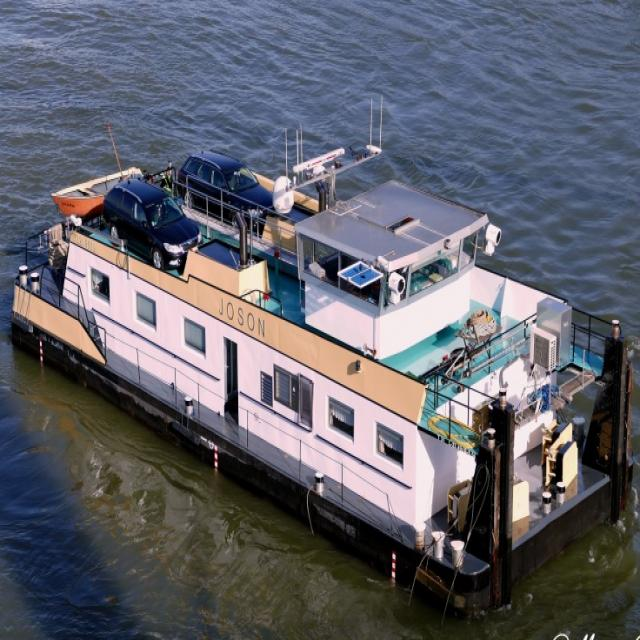tugboat: (6, 93, 640, 640)
